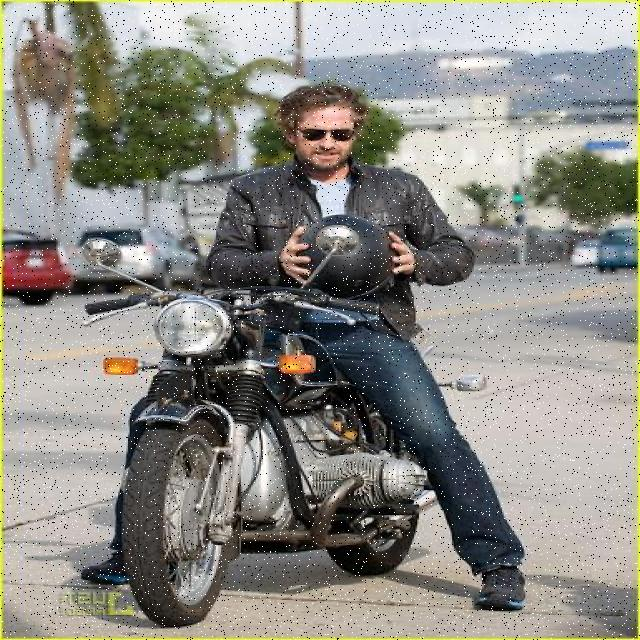No helmet: (277, 82, 361, 171)
